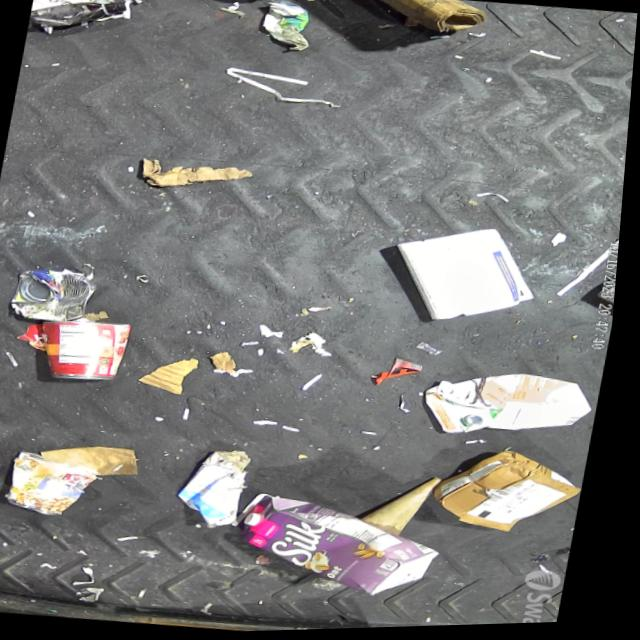can: (10, 448, 110, 522), (38, 315, 140, 387), (10, 263, 105, 328), (218, 0, 307, 4)
non_white_jug: (225, 487, 460, 608), (425, 366, 607, 453)
